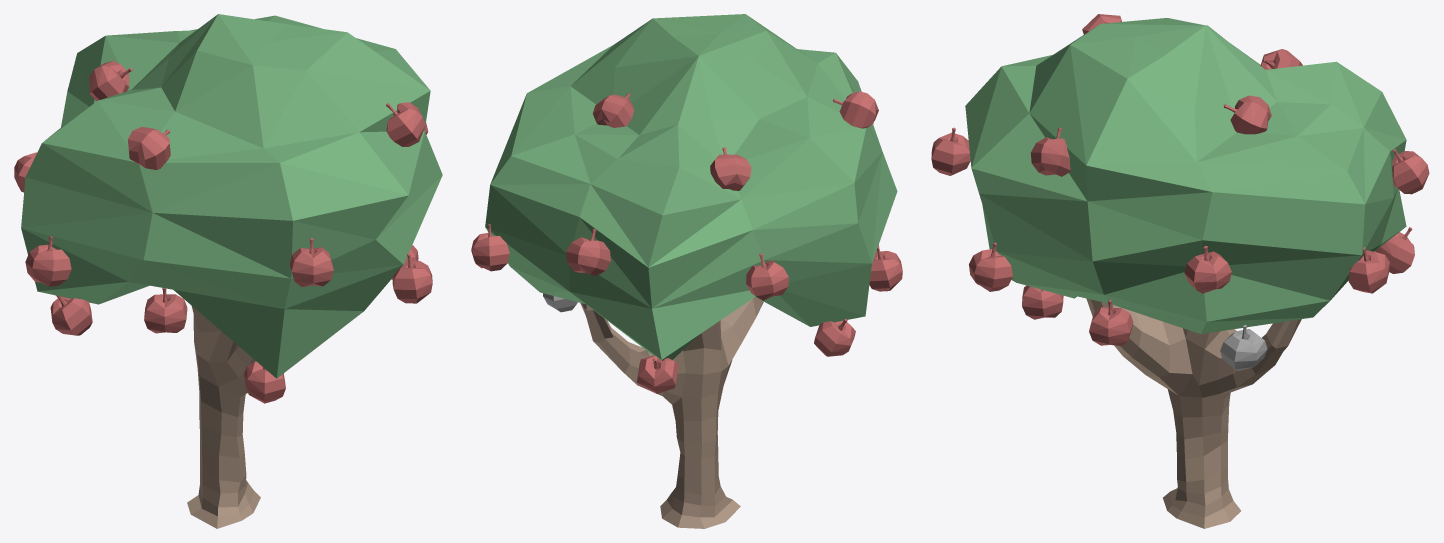
Rendered from Apple Tree.fbx.
The picture shows the model from 3 angles, left to right: view 1: azimuth 30°, elevation 25°; view 2: azimuth 150°, elevation 25°; view 3: azimuth 270°, elevation 25°; orthographic projection. The views are drawn at different scales.
Visible parts, largest first — view 1: pSphere5, pasted__pCylinder6, pSphere7, pSphere6, pSphere9, pSphere15, pSphere10, pSphere16, pSphere22, pSphere18, pSphere8; view 2: pSphere5, pasted__pCylinder6, pSphere17, pSphere14, pSphere13, pSphere18, pSphere19, pSphere16, pSphere7, pSphere15, pSphere21; view 3: pSphere5, pasted__pCylinder6, pSphere12, pSphere11, pSphere20, pSphere10, pSphere9, pSphere19, pSphere22, pSphere17, pSphere21, pSphere8 (+2 smaller).
Part boxes in pixels (x1,y1,x2,y2): pSphere5: (21,14,442,378); pasted__pCylinder6: (187,306,260,528); pSphere7: (25,236,71,286); pSphere6: (144,288,187,333); pSphere9: (289,238,333,287); pSphere15: (127,127,170,169); pSphere10: (392,253,432,303); pSphere16: (50,295,92,335); pSphere22: (386,102,425,146); pSphere18: (89,61,132,101); pSphere8: (244,361,285,403); pSphere5: (485,14,897,360); pasted__pCylinder6: (580,297,763,528); pSphere17: (566,228,610,275); pSphere14: (746,253,788,300); pSphere13: (636,355,678,393); pSphere18: (710,147,751,190); pSphere19: (471,224,509,271); pSphere16: (814,319,855,356); pSphere7: (869,246,902,291); pSphere15: (833,91,878,128); pSphere21: (592,93,634,127); pSphere5: (965,18,1406,333); pasted__pCylinder6: (1086,298,1301,528); pSphere12: (1184,246,1231,293); pSphere11: (1089,300,1133,346); pSphere20: (1220,325,1267,370); pSphere10: (969,242,1012,291); pSphere9: (931,127,970,175); pSphere19: (1348,247,1389,293); pSphere22: (1030,128,1070,176); pSphere17: (1392,149,1429,194); pSphere21: (1223,95,1271,134); pSphere8: (1022,285,1063,319).
Size of the model in its own units: 38.99 by 45.23 by 42.24.
